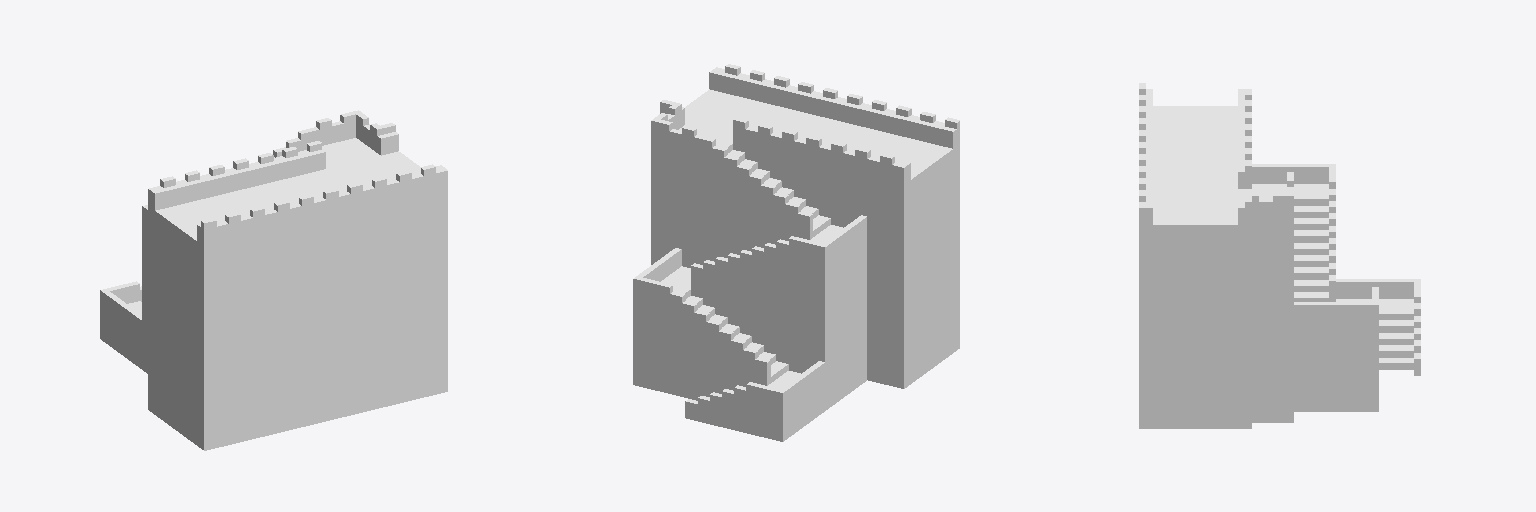
Rendered from TVS_VoxelKnights_WallWithStairs.obj.
3 views of the same model, side by side, from view 1: azimuth 30°, elevation 25°; view 2: azimuth 150°, elevation 25°; view 3: azimuth 270°, elevation 25° (orthographic).
Visible parts, largest first — view 1: ObjObject.004; view 2: ObjObject.004; view 3: ObjObject.004.
Part boxes in pixels (left/top/right/bottom): ObjObject.004: left=100, top=110, right=447, bottom=450; ObjObject.004: left=633, top=64, right=959, bottom=441; ObjObject.004: left=1139, top=83, right=1420, bottom=428.
Bounding box in the file's own units: 12 × 10.7 × 12.